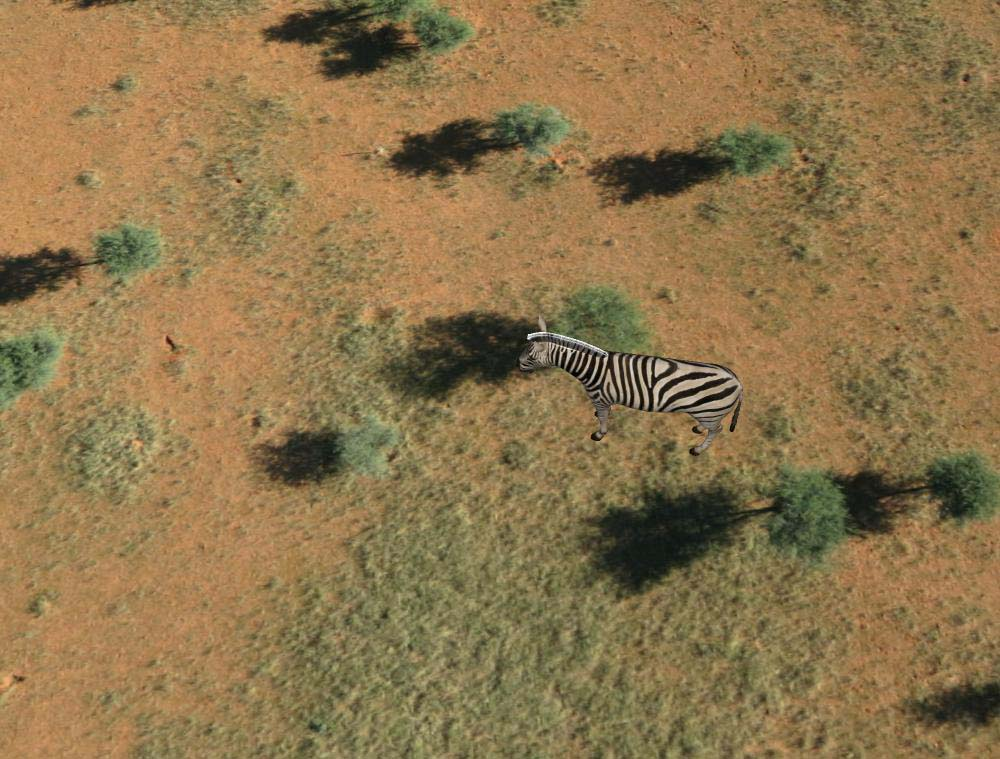zebra: (517, 313, 747, 459)
